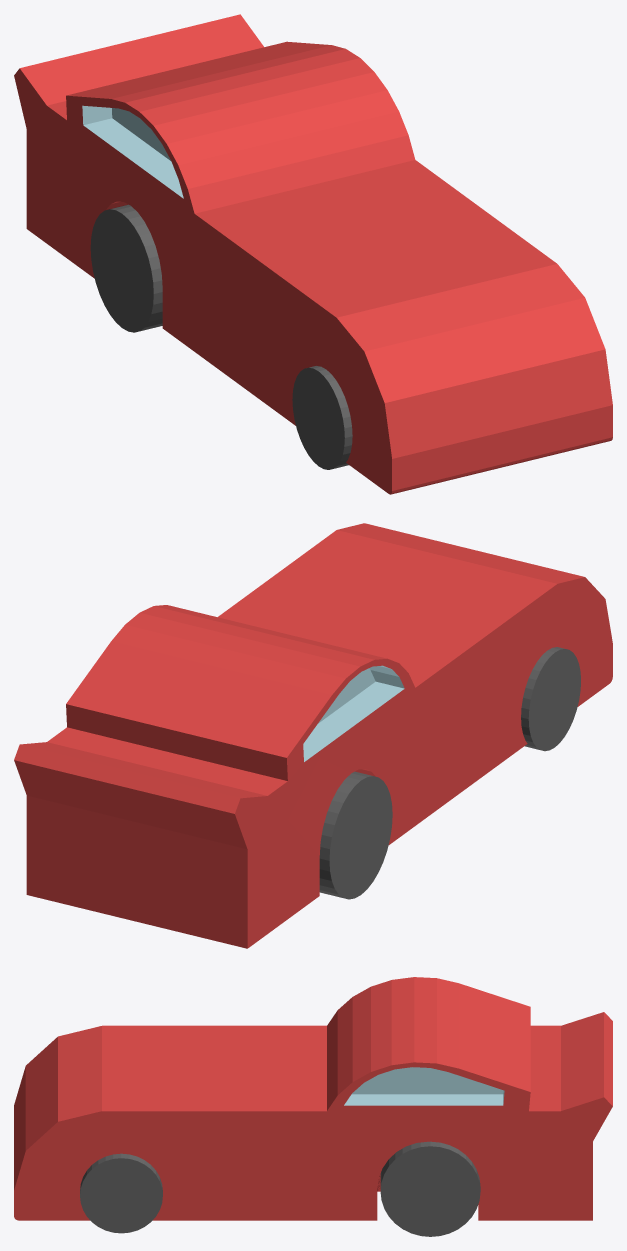
Rendered from SportsCars.fbx.
3 renders of one model, top to bottom at view 1: azimuth 30°, elevation 25°; view 2: azimuth 150°, elevation 25°; view 3: azimuth 270°, elevation 25°, orthographic. The views are drawn at different scales.
Parts seen in each view (by area): view 1: SportsCar; view 2: SportsCar; view 3: SportsCar.
Boxes of the visible parts, <box> form: SportsCar: <box>14,14,612,494</box>; SportsCar: <box>14,523,612,948</box>; SportsCar: <box>14,977,612,1236</box>.
Size of the model in its own units: 219 by 191 by 593.
